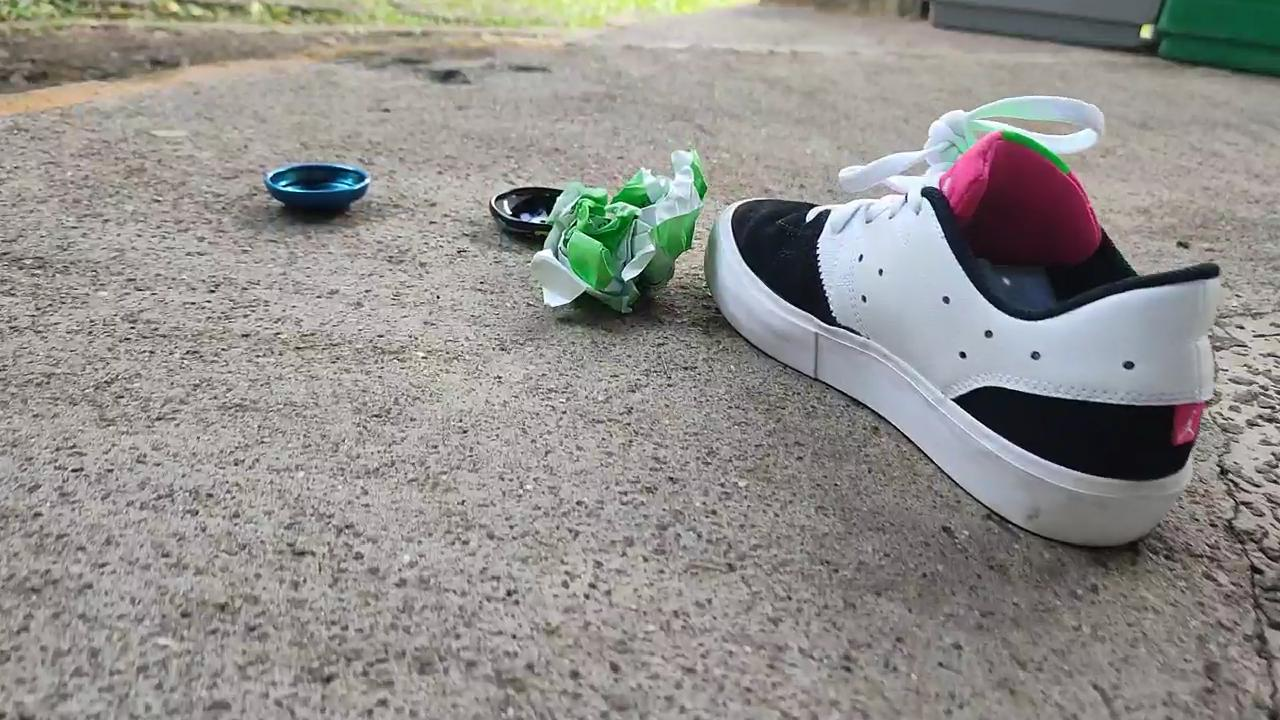Paper: (526, 135, 709, 327)
